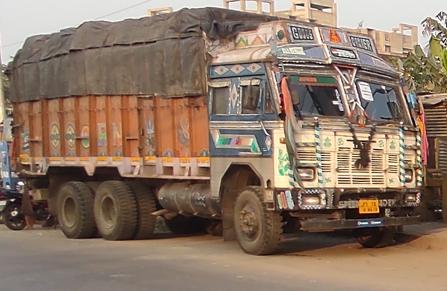Truck: (14, 27, 412, 263)
